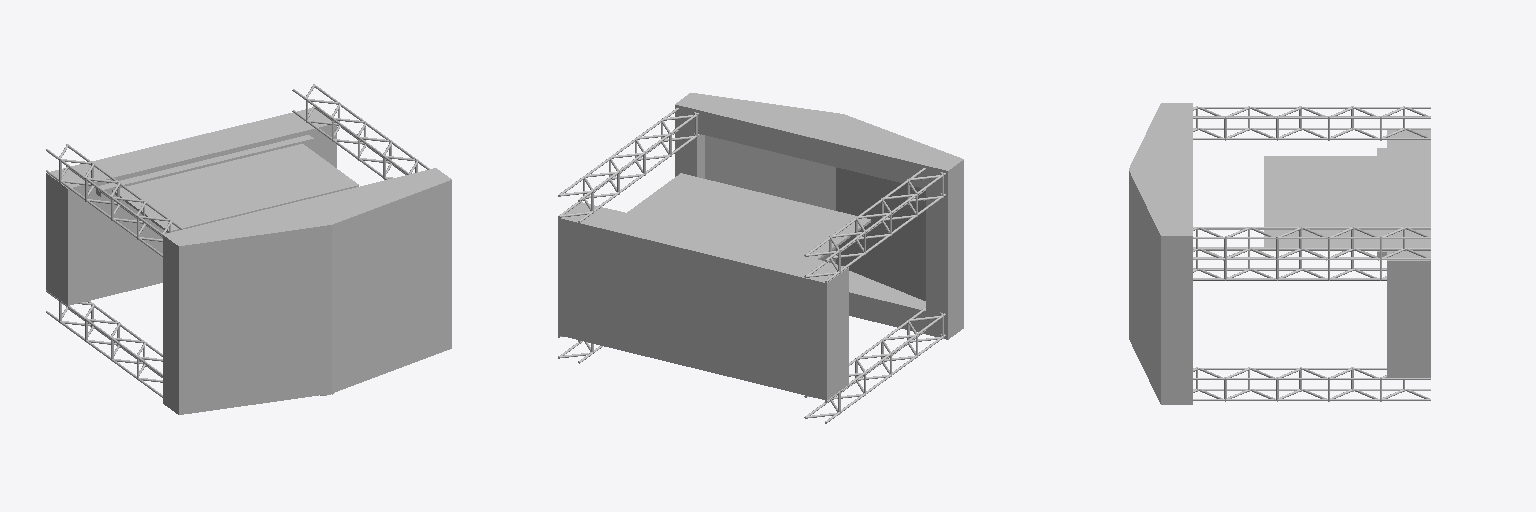
Rendered from stage.obj.
The picture shows the model from 3 angles: view 1: azimuth 30°, elevation 25°; view 2: azimuth 150°, elevation 25°; view 3: azimuth 270°, elevation 25°; orthographic projection.
Parts seen in each view (by area): view 1: obj_0; view 2: obj_0; view 3: obj_0.
Part boxes in pixels (bbox=[...]): obj_0: bbox=[46, 84, 451, 414]; obj_0: bbox=[558, 93, 963, 423]; obj_0: bbox=[1129, 103, 1430, 404].
Size of the model in its own units: 122 by 73.78 by 117.